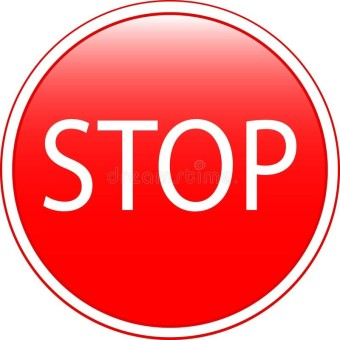SS: (0, 1, 338, 339)
